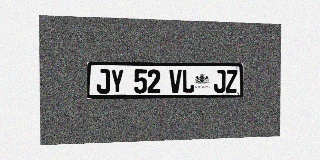2: (147, 69, 160, 93)
5: (134, 69, 147, 93)
J: (96, 69, 110, 94), (214, 70, 225, 93)
L: (182, 69, 194, 93)
V: (169, 69, 182, 93)
Y: (110, 69, 124, 94)
Z: (226, 70, 237, 93)
